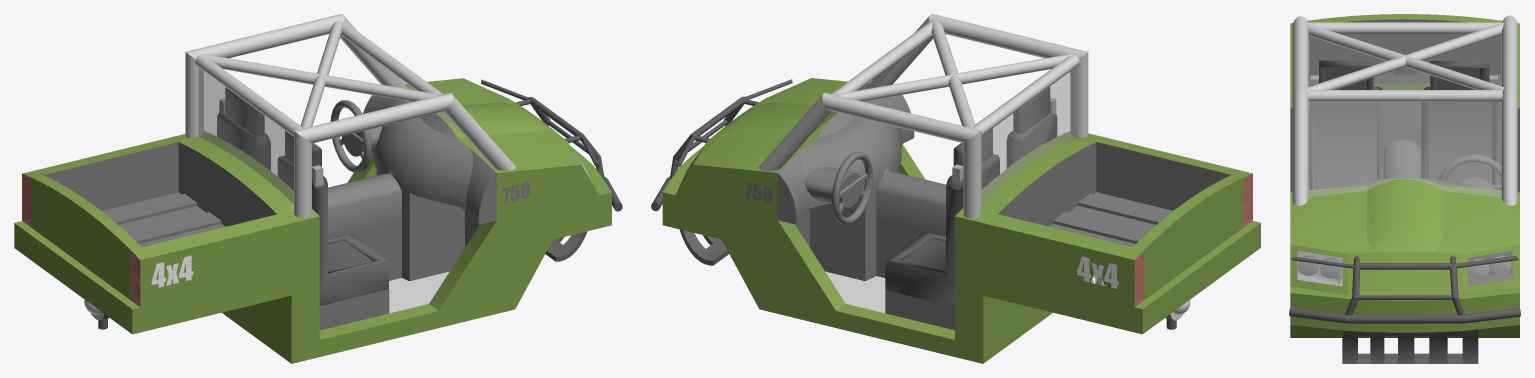
Rendered from vehicle_chassis.dae.
3 renders of one model, left to right at view 1: azimuth 30°, elevation 25°; view 2: azimuth 150°, elevation 25°; view 3: azimuth 270°, elevation 25°, orthographic. The views are drawn at different scales.
Visible parts, largest first — view 1: Mesh10_Model, Mesh18_Model, Mesh12_Model, Mesh15_Model, Mesh14_Model, Mesh13_Model, Mesh20_Model, Mesh9_GRILL1_Model; view 2: Mesh10_Model, Mesh18_Model, Mesh13_Model, Mesh15_Model, Mesh14_Model, Mesh12_Model, Mesh9_GRILL1_Model, Mesh20_Model; view 3: Mesh10_Model, Mesh18_Model, Mesh9_GRILL1_Model, Mesh14_Model, Mesh17_Model, Mesh12_Model, Mesh13_Model, Mesh15_Model, Mesh20_Model, Mesh23_Model, Mesh26_Model, Mesh5_head_light5_Component_8_1_Model (+4 smaller).
Boxes of the visible parts, bbox=[...] form: Mesh10_Model: bbox=[14, 14, 611, 363]; Mesh18_Model: bbox=[198, 68, 293, 203]; Mesh12_Model: bbox=[200, 54, 439, 101]; Mesh15_Model: bbox=[195, 55, 302, 136]; Mesh14_Model: bbox=[341, 21, 442, 94]; Mesh13_Model: bbox=[300, 20, 341, 128]; Mesh20_Model: bbox=[528, 97, 604, 178]; Mesh9_GRILL1_Model: bbox=[545, 231, 587, 261]; Mesh10_Model: bbox=[662, 14, 1260, 363]; Mesh18_Model: bbox=[981, 68, 1075, 203]; Mesh13_Model: bbox=[835, 54, 1072, 101]; Mesh15_Model: bbox=[973, 54, 1079, 135]; Mesh14_Model: bbox=[831, 21, 932, 94]; Mesh12_Model: bbox=[931, 21, 975, 128]; Mesh9_GRILL1_Model: bbox=[679, 229, 728, 265]; Mesh20_Model: bbox=[670, 96, 746, 178]; Mesh10_Model: bbox=[1290, 14, 1519, 337]; Mesh18_Model: bbox=[1308, 34, 1501, 89]; Mesh9_GRILL1_Model: bbox=[1342, 329, 1478, 363]; Mesh14_Model: bbox=[1307, 90, 1502, 101]; Mesh17_Model: bbox=[1289, 307, 1520, 323]; Mesh12_Model: bbox=[1306, 23, 1503, 90]; Mesh13_Model: bbox=[1306, 23, 1503, 90]; Mesh15_Model: bbox=[1306, 22, 1503, 34]; Mesh20_Model: bbox=[1345, 263, 1464, 315]; Mesh23_Model: bbox=[1358, 295, 1452, 299]; Mesh26_Model: bbox=[1456, 256, 1518, 268]; Mesh5_head_light5_Component_8_1_Model: bbox=[1298, 255, 1319, 275].
Bounding box in the file's own units: 2.77 × 1.13 × 1.19.
